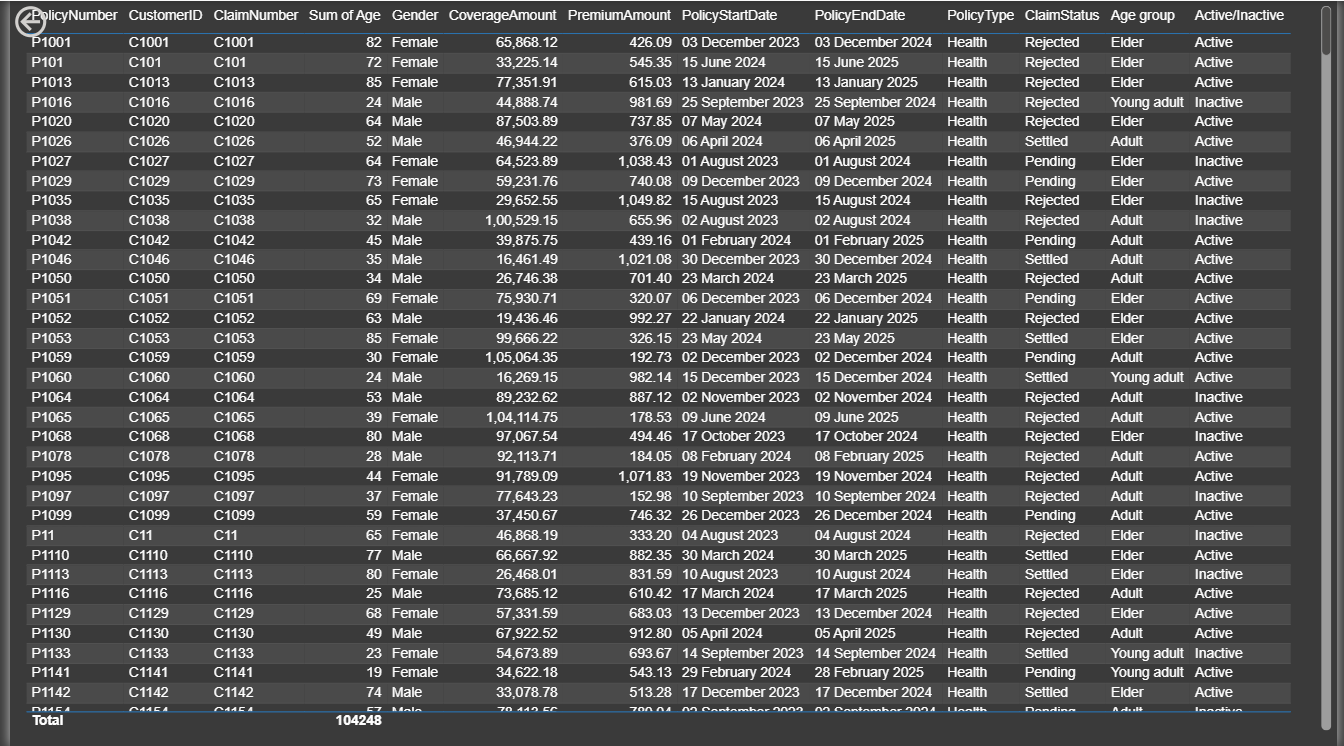

Layout of this report page (visuals, bound fields, positions):
{"tool":"powerbi","page":{"name":"Page 2","canvas":[1280,720],"ordinal":1},"visuals":[{"type":"tableEx","fields":{"Values":["InsuranceData.PolicyNumber","InsuranceData.CustomerID","InsuranceData.ClaimNumber","Sum(InsuranceData.Age)","InsuranceData.Gender","InsuranceData.CoverageAmount","InsuranceData.PremiumAmount","InsuranceData.PolicyStartDate","InsuranceData.PolicyEndDate","InsuranceData.PolicyType","InsuranceData.ClaimStatus","InsuranceData.Age group"]},"box":[9.7,0,1270.4,709.4],"z":0},{"type":"actionButton","box":[0,0,100,40],"z":1000}]}

Visuals, with their boxes on the page's 1280x720 design canvas (x1, y1, x2, y2). These are canvas units, not pixel positions in the 1344x746 screenshot, which may show the page scaled, cropped or inside an application window:
tableEx - InsuranceData.PolicyNumber x InsuranceData.CustomerID: 10/0/1280/709
actionButton: 0/0/100/40
